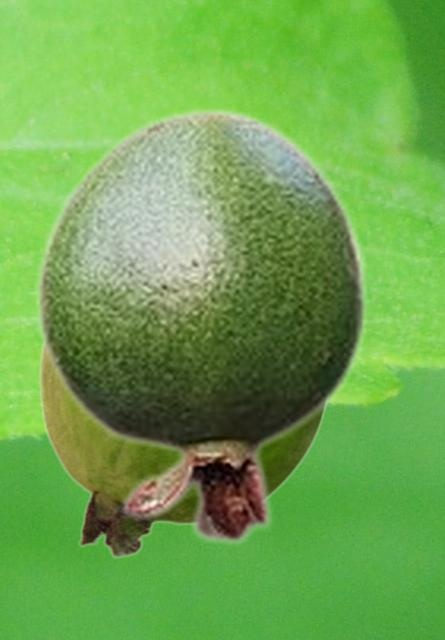guava: (34, 106, 370, 546), (38, 348, 327, 558)
